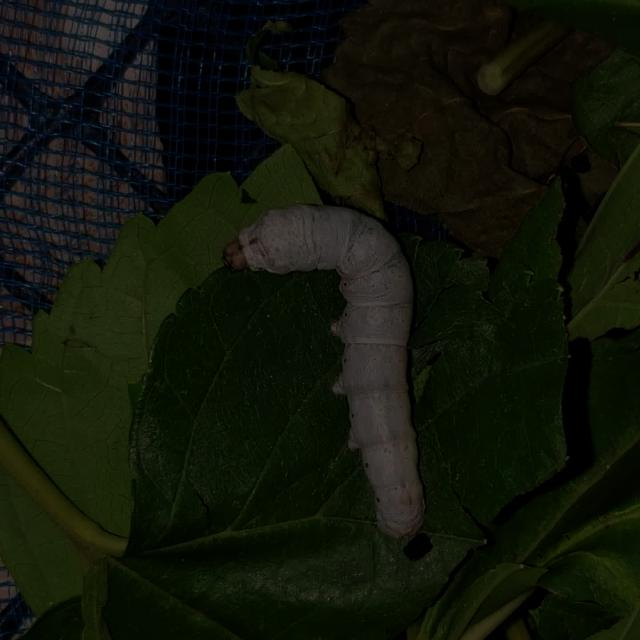Healthy: (202, 172, 448, 580)
